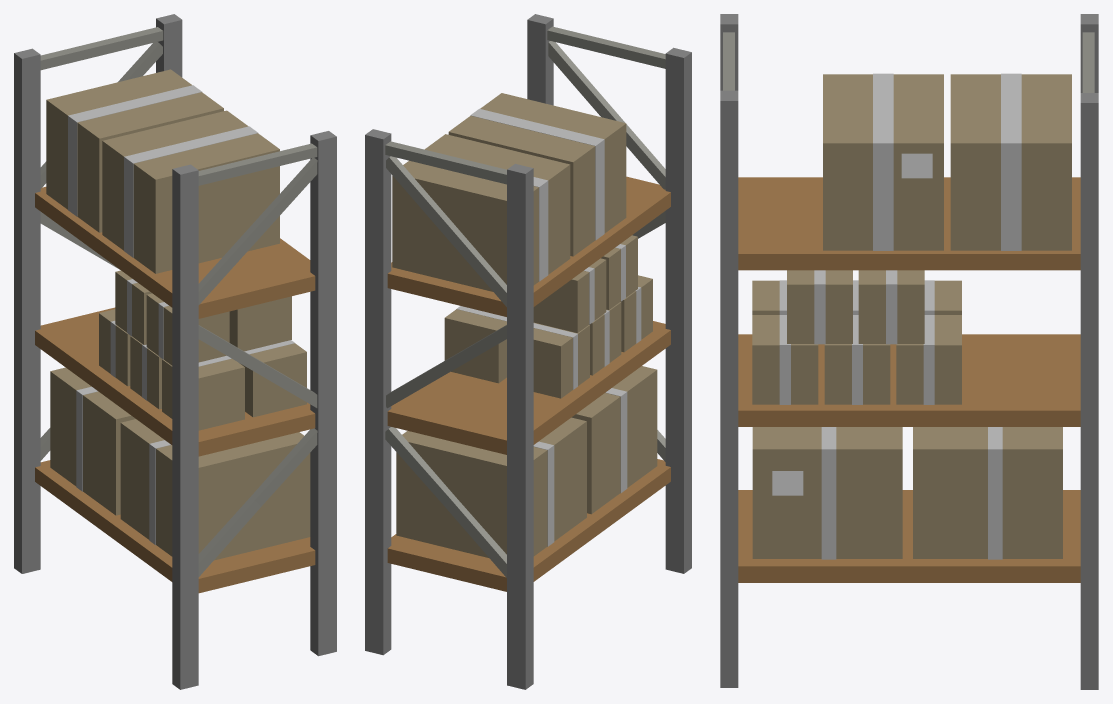
Rendered from Stellage.glb.
3 views of the same model, side by side, from view 1: azimuth 30°, elevation 25°; view 2: azimuth 150°, elevation 25°; view 3: azimuth 270°, elevation 25° (orthographic). The views are drawn at different scales.
Parts seen in each view (by area): view 1: Cube.016, Cube.041, Paal2, Paal3, Paal4, Cube.014, Plank3, Plank2, Cube.039, Plank1, Cube.021, Cube.019 (+18 smaller); view 2: Cube.014, Cube.039, Paal3, Paal2, Paal1, Plank2, Cube.016, Cube.041, Plank1, Plank3, Cube.029, Cube.037 (+17 smaller); view 3: Plank2, Cube.014, Cube.039, Cube.041, Cube.016, Plank3, Paal4, Paal1, Plank1, Cube.019, Cube.027, Cube.031 (+19 smaller).
Boxes of the visible parts, x1,y1,x2,y2 form: Cube.016: (102,110,279,273); Cube.041: (120,419,310,560); Paal2: (172,164,198,689); Paal3: (14,48,40,573); Paal4: (310,131,336,656); Cube.014: (46,69,223,232); Plank3: (35,186,315,318); Plank2: (35,307,315,456); Cube.039: (50,367,135,515); Plank1: (35,460,315,593); Cube.021: (162,358,244,430); Cube.019: (241,343,306,417); Cube.014: (392,134,570,291); Cube.039: (396,417,586,557); Paal3: (507,163,533,689); Paal2: (665,47,691,573); Paal1: (365,129,391,655); Plank2: (387,321,670,454); Cube.016: (448,93,626,256); Cube.041: (571,366,657,514); Plank1: (387,459,670,591); Plank3: (387,176,670,316); Cube.029: (533,322,589,398); Cube.037: (533,258,606,332); Plank2: (738,334,1080,426); Cube.014: (950,74,1071,250); Cube.039: (913,427,1062,558); Cube.041: (752,427,902,558); Cube.016: (823,74,943,250); Plank3: (738,177,1080,270); Paal4: (720,90,738,687); Paal1: (1080,93,1098,689); Plank1: (738,490,1080,582); Cube.019: (752,315,818,404); Cube.027: (896,315,961,404); Cube.031: (787,270,852,343).
Size of the model in its own units: 3.48 by 10.7 by 6.25.
